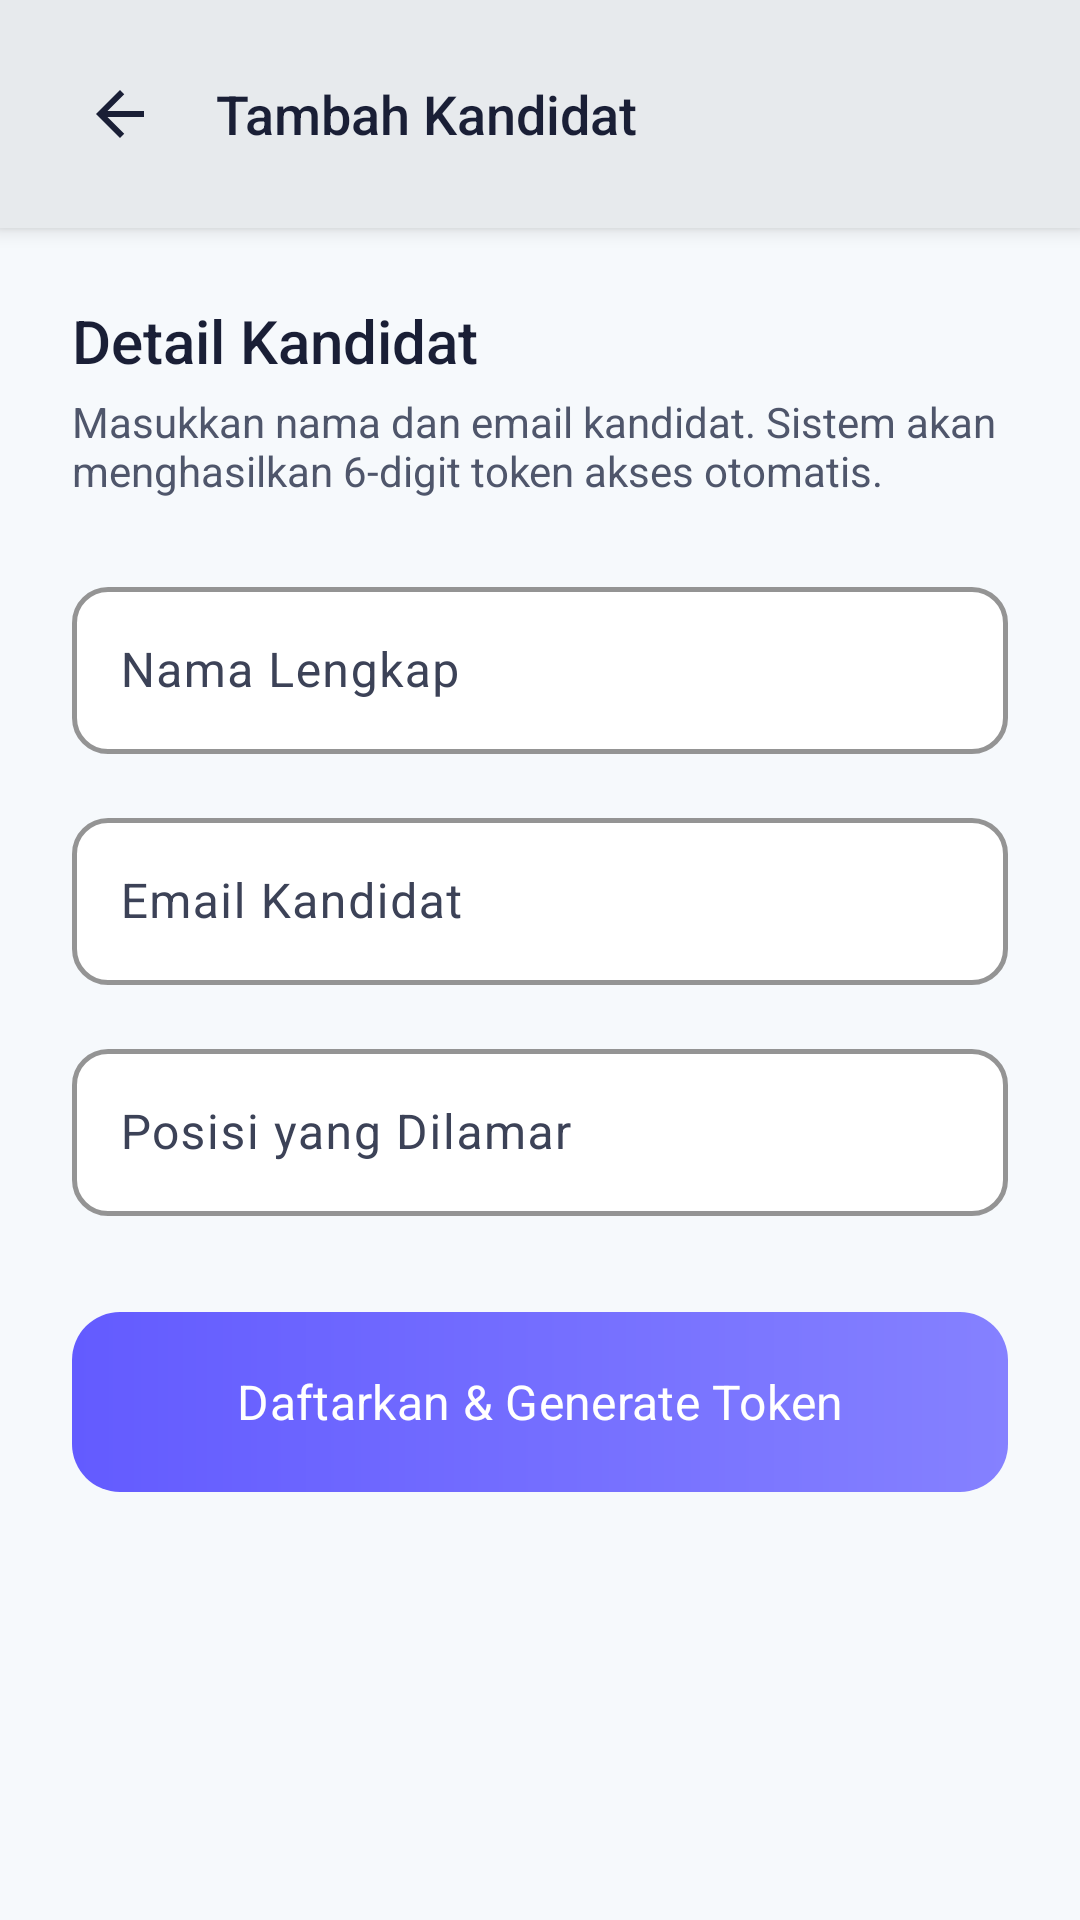

Named icons in this screenshot (1080*1920) and their centers, (x=x, y=y):
Batal: (x=120, y=114)
